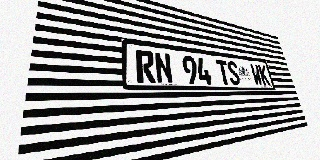4: (195, 57, 212, 84)
9: (181, 55, 199, 84)
K: (257, 64, 271, 86)
N: (154, 52, 173, 84)
R: (135, 49, 156, 83)
S: (226, 61, 241, 85)
T: (215, 59, 231, 85)
W: (250, 63, 263, 85)
